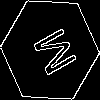M: (25, 25, 78, 83)
